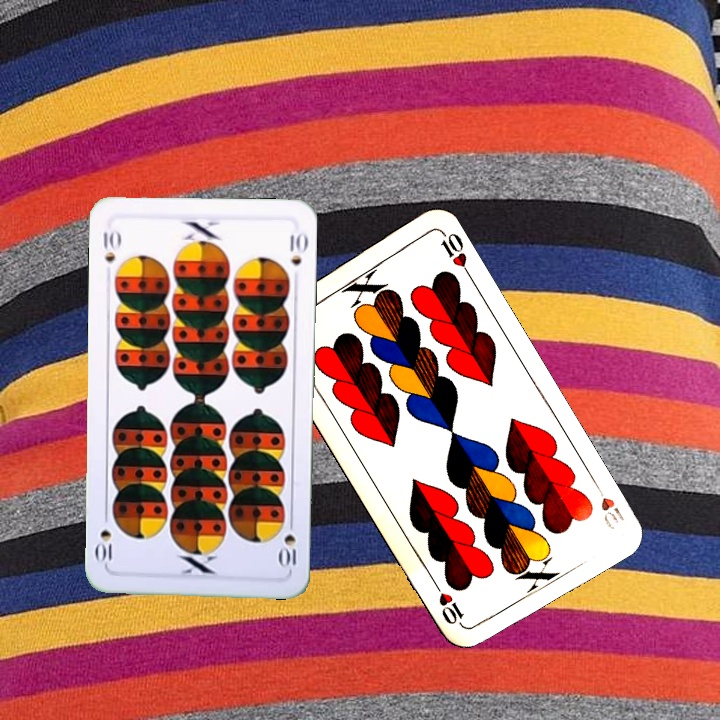H10: (589, 477, 627, 533)
S10: (277, 514, 298, 573), (99, 227, 123, 264)
